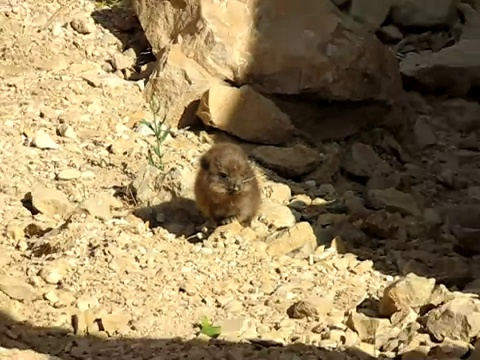Rock Hyrex: (199, 145, 261, 225)
